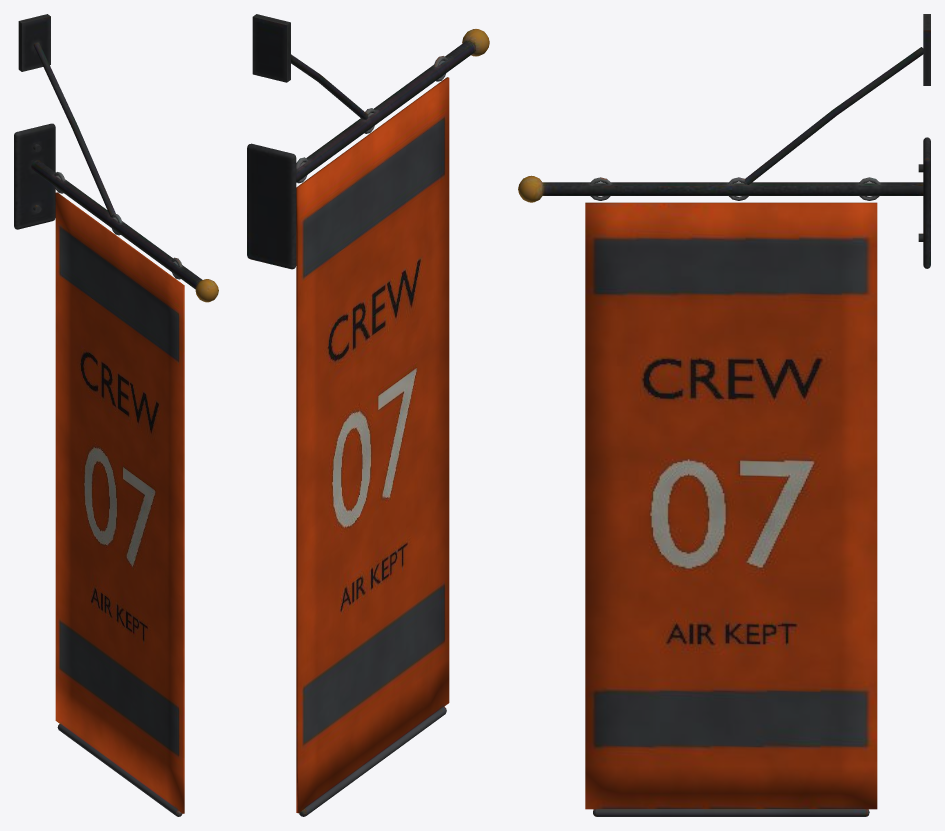
The model's file is banner_crew.glb.
3 views of the same model, side by side, from view 1: azimuth 30°, elevation 25°; view 2: azimuth 150°, elevation 25°; view 3: azimuth 270°, elevation 25° (orthographic). The views are drawn at different scales.
Visible parts, largest first — view 1: banner_crew; view 2: banner_crew; view 3: banner_crew.
Boxes of the visible parts, x1=… form: banner_crew: x1=14, y1=14, x2=218, y2=816; banner_crew: x1=247, y1=14, x2=489, y2=816; banner_crew: x1=518, y1=14, x2=930, y2=816.
Size of the model in its own units: 0.14 by 2.28 by 1.07.
1 material, 1 textured.
